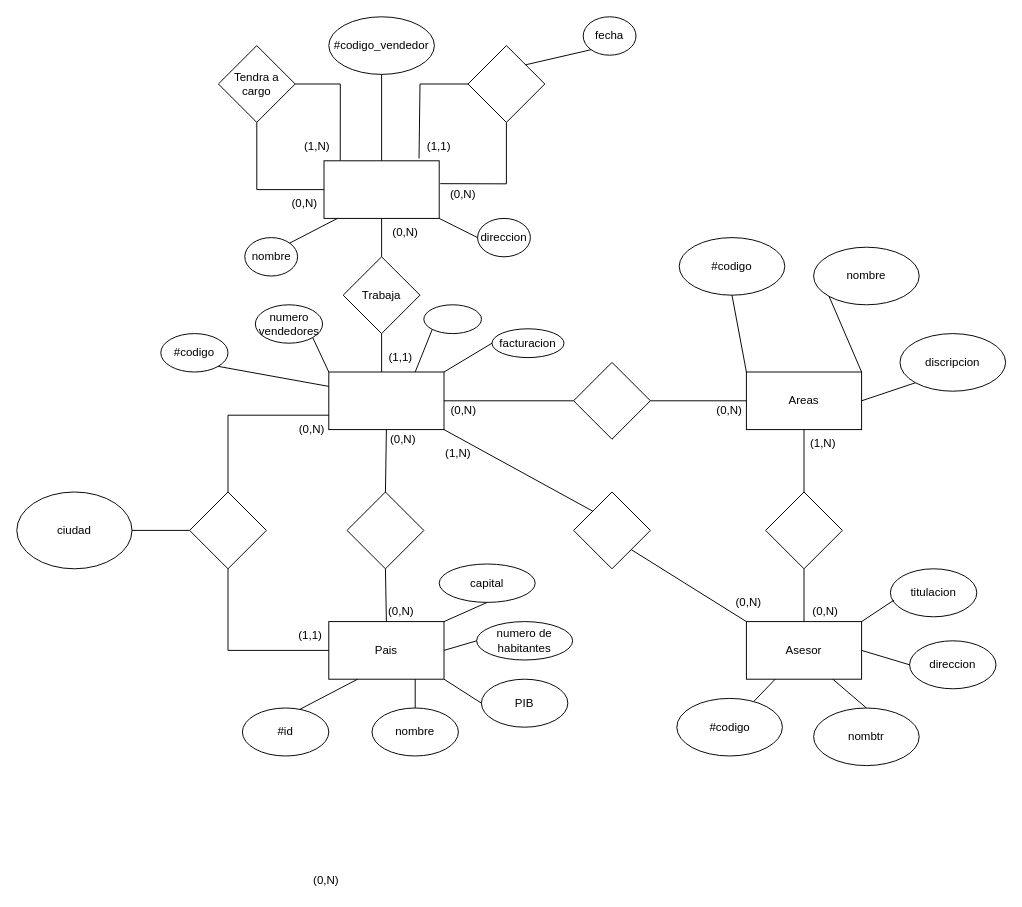
Some shapes in this 1022 by 907 pixel diagram are drawn without their labels. Each missing label, with the centre of its shape:
"Actua" belongs at (x=385, y=530).
"Asesora" belongs at (x=611, y=530).
"Capta" belongs at (x=506, y=83).
"Cubren" belongs at (x=611, y=400).
"Dan soporte" belongs at (x=803, y=530).
"Empresa" belongs at (x=386, y=400).
"fecha entrada" belongs at (x=452, y=319).
"Tiene sede" belongs at (x=227, y=530).
"Vendedor" belongs at (x=381, y=189).
